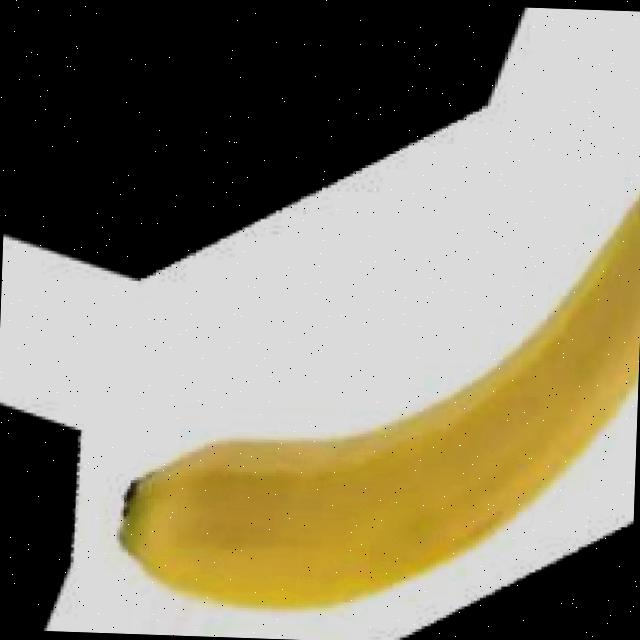banana: (96, 86, 640, 626)
